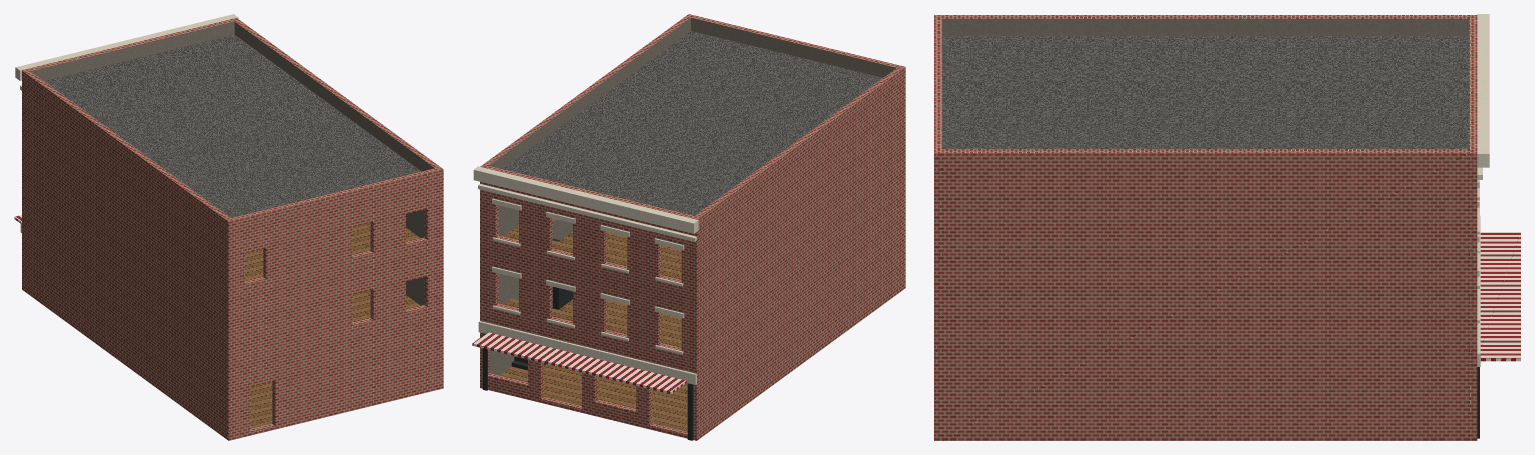
The model's file is main_street_red_12m_3st.glb.
3 views of the same model, side by side, from view 1: azimuth 30°, elevation 25°; view 2: azimuth 150°, elevation 25°; view 3: azimuth 270°, elevation 25° (orthographic). The views are drawn at different scales.
Parts seen in each view (by area): view 1: main_street_red_12m_3st; view 2: main_street_red_12m_3st; view 3: main_street_red_12m_3st.
Part boxes in pixels (x1,y1,x2,y2): main_street_red_12m_3st: (14, 14, 443, 440); main_street_red_12m_3st: (472, 14, 905, 440); main_street_red_12m_3st: (934, 14, 1520, 440).
Size of the model in its own units: 12.2 by 11.7 by 21.6.
7 materials, 7 textured.
